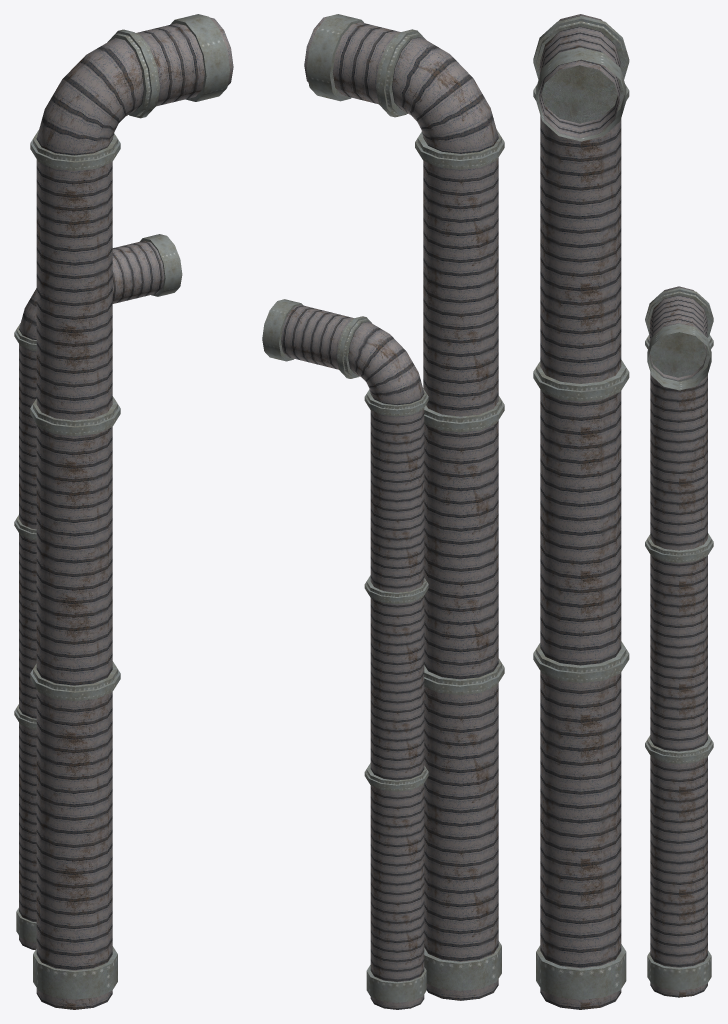
Rendered from Ob_Pipes2_RC.fbx.
3 renders of one model, left to right at view 1: azimuth 30°, elevation 25°; view 2: azimuth 150°, elevation 25°; view 3: azimuth 270°, elevation 25°, orthographic. The views are drawn at different scales.
Parts seen in each view (by area): view 1: Ob_Pipes2_RC; view 2: Ob_Pipes2_RC; view 3: Ob_Pipes2_RC.
Boxes of the visible parts, bbox=[...] form: Ob_Pipes2_RC: bbox=[14, 14, 233, 1009]; Ob_Pipes2_RC: bbox=[262, 14, 504, 1009]; Ob_Pipes2_RC: bbox=[533, 14, 713, 1009].
Size of the model in its own units: 4315 by 21928 by 3570.
